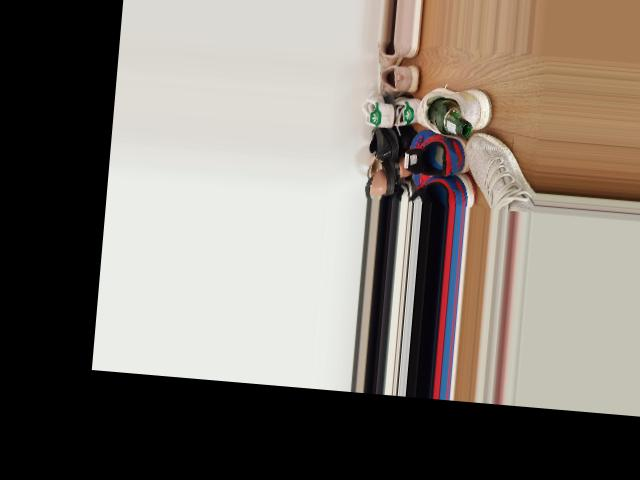beer: (426, 97, 474, 138)
